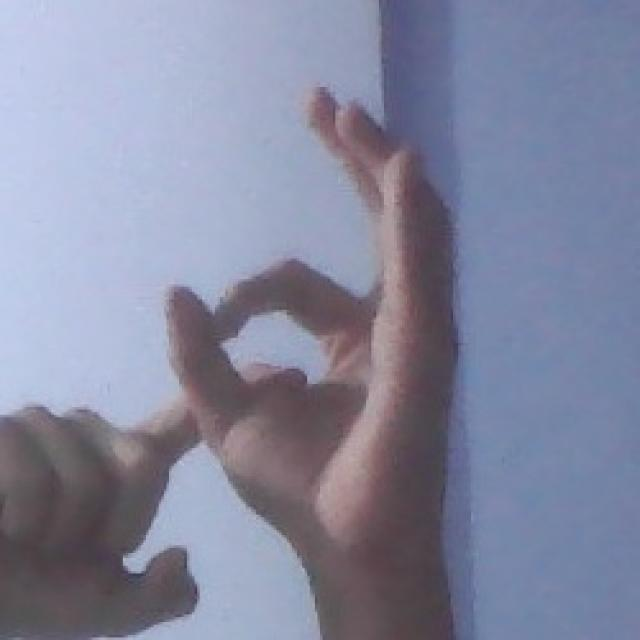Alphabet-Q: (0, 69, 489, 640)
